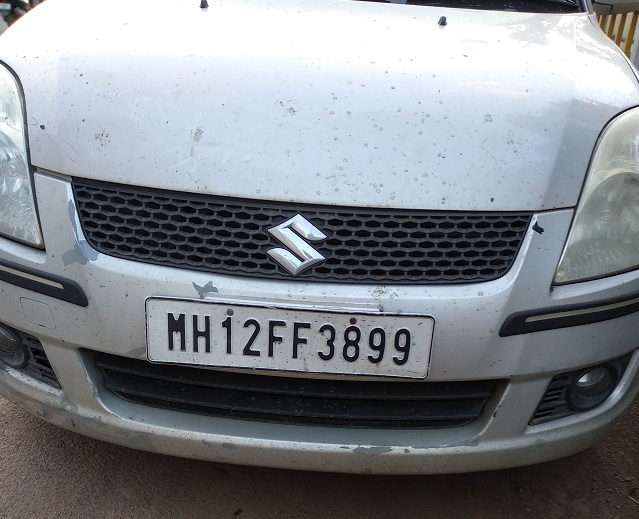licenseplate: (142, 292, 440, 382)
